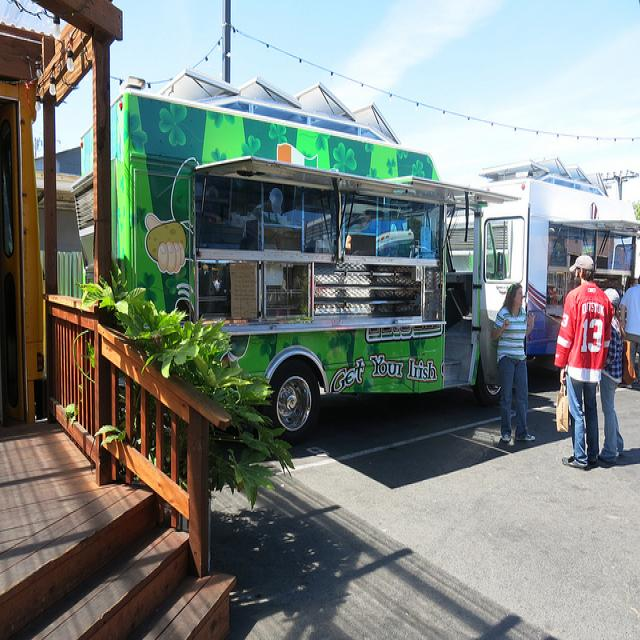Vehicle: (104, 90, 516, 434), (475, 158, 639, 402)
